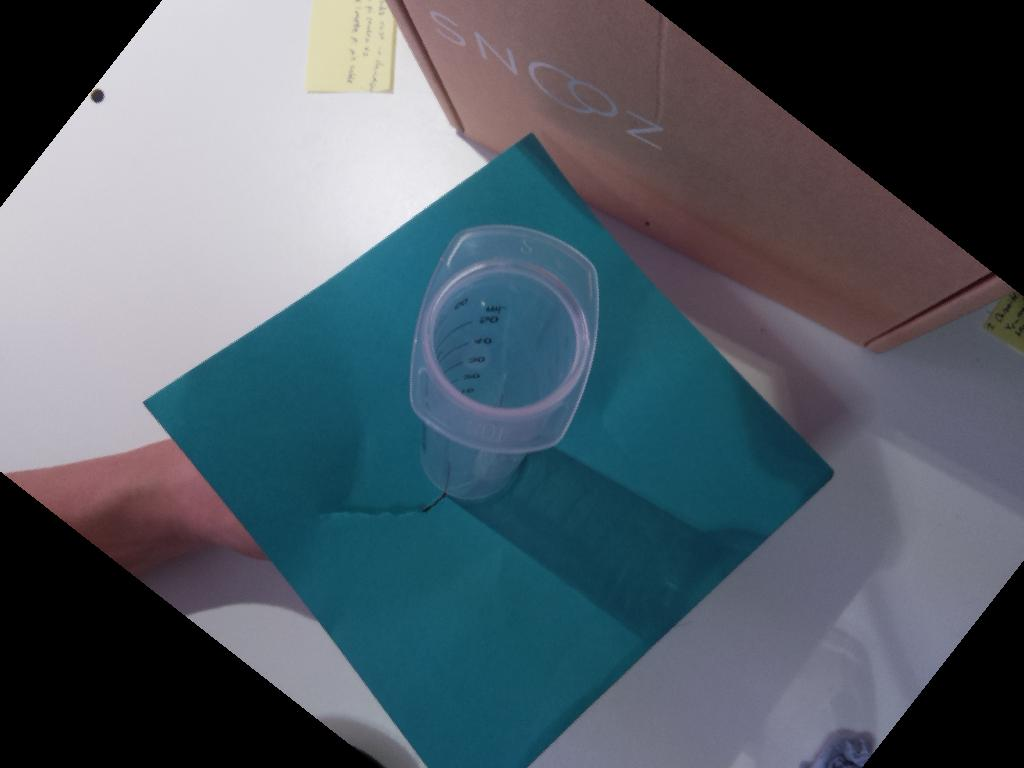clean: (409, 222, 601, 456)
